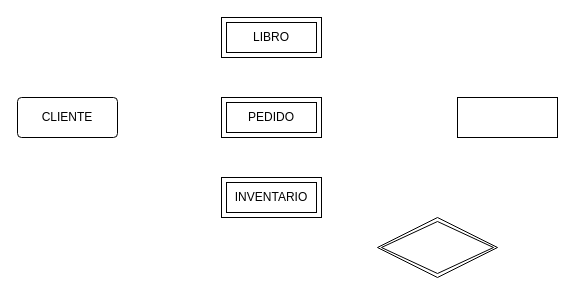
Some shapes in this 575 by 295 pixel diagram are drawn without their labels. The shapes that lost their labels are listed below. From the top down, each one's centre as x and y in pixels, then its label:
At point 507,117: "EDITORIAL".
At point 437,247: "Relationship".
